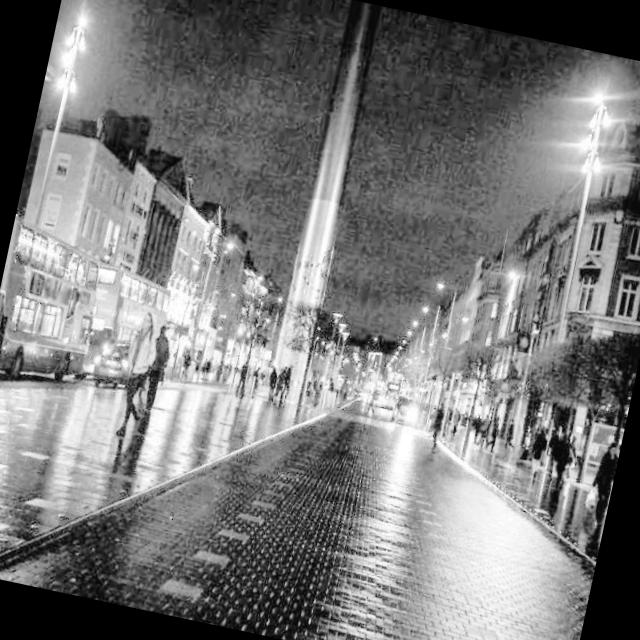Bus: (74, 225, 188, 400), (0, 216, 109, 394)
